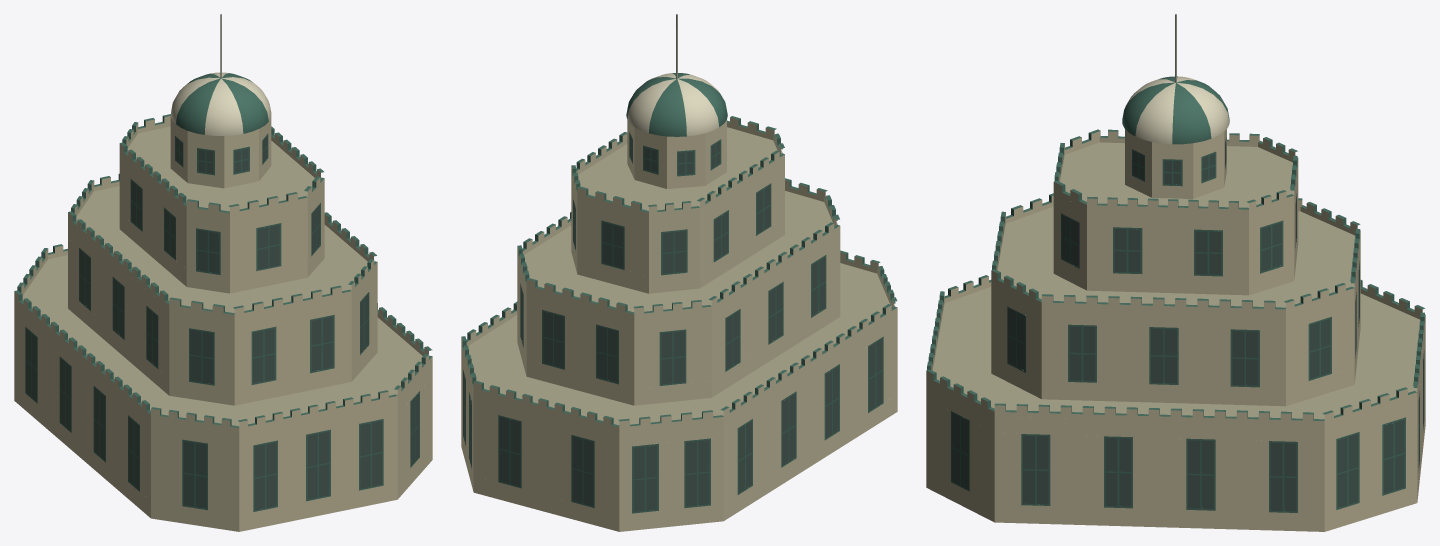
File: tovrea-castle-near.glb
3 views of the same model, side by side, from view 1: azimuth 30°, elevation 25°; view 2: azimuth 150°, elevation 25°; view 3: azimuth 270°, elevation 25° (orthographic). The views are drawn at different scales.
Parts seen in each view (by area): view 1: tovrea-castle-0-stone, tovrea-castle-0-roof, tovrea-castle-0-glass, tovrea-castle-0-frame, tovrea-castle-0-trim; view 2: tovrea-castle-0-stone, tovrea-castle-0-roof, tovrea-castle-0-glass, tovrea-castle-0-frame, tovrea-castle-0-trim; view 3: tovrea-castle-0-stone, tovrea-castle-0-roof, tovrea-castle-0-glass, tovrea-castle-0-frame, tovrea-castle-0-trim.
Part boxes in pixels (left/top/right/bottom): tovrea-castle-0-stone: left=14, top=116, right=432, bottom=531; tovrea-castle-0-roof: left=22, top=126, right=422, bottom=426; tovrea-castle-0-glass: left=26, top=136, right=419, bottom=510; tovrea-castle-0-frame: left=15, top=73, right=432, bottom=511; tovrea-castle-0-trim: left=170, top=72, right=271, bottom=135; tovrea-castle-0-stone: left=461, top=117, right=897, bottom=531; tovrea-castle-0-roof: left=468, top=127, right=894, bottom=425; tovrea-castle-0-glass: left=463, top=134, right=882, bottom=511; tovrea-castle-0-frame: left=461, top=73, right=897, bottom=513; tovrea-castle-0-trim: left=627, top=73, right=719, bottom=136; tovrea-castle-0-stone: left=926, top=129, right=1425, bottom=531; tovrea-castle-0-roof: left=932, top=142, right=1420, bottom=419; tovrea-castle-0-glass: left=952, top=138, right=1423, bottom=511; tovrea-castle-0-frame: left=926, top=76, right=1425, bottom=512; tovrea-castle-0-trim: left=1124, top=76, right=1229, bottom=144.
Bounding box in the file's own units: 11.57 × 15.84 × 16.21.
